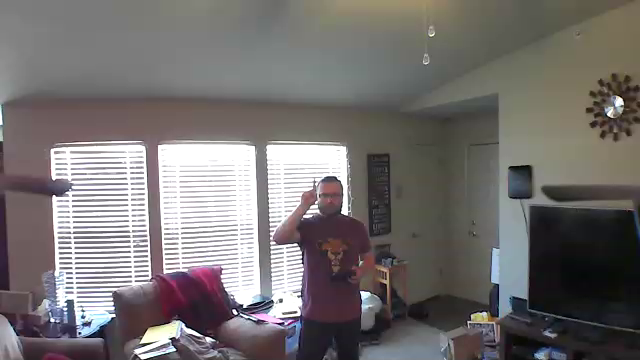up: (297, 178, 319, 206)
